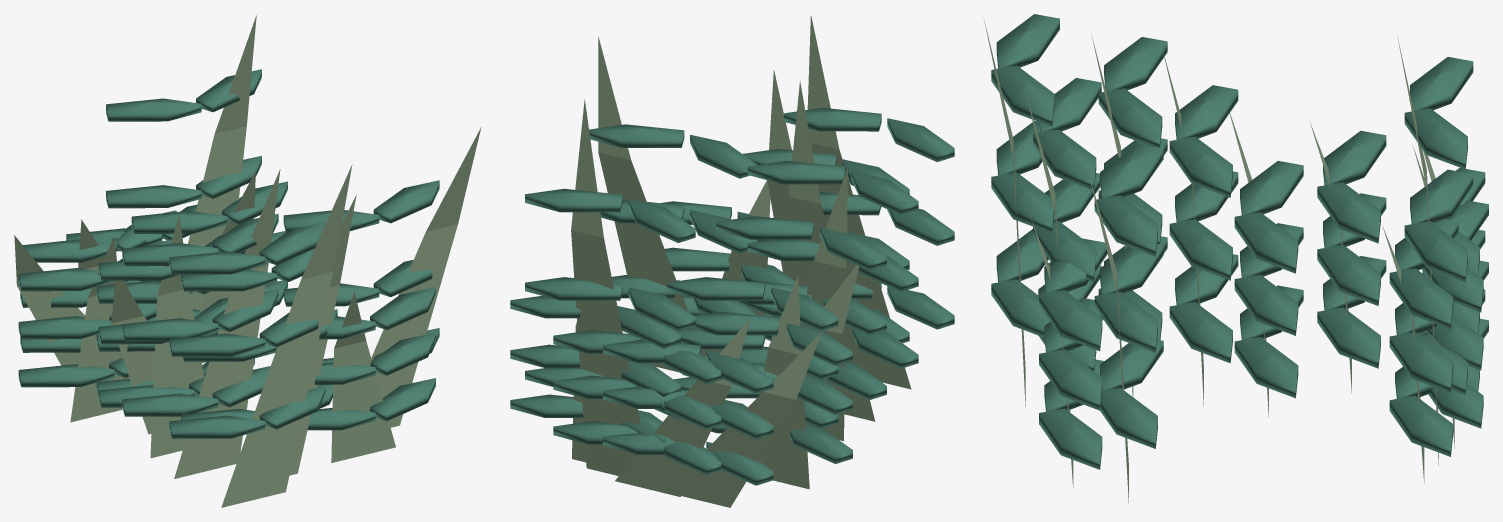
File: fern_variant_01.glb
3 views of the same model, side by side, from view 1: azimuth 30°, elevation 25°; view 2: azimuth 150°, elevation 25°; view 3: azimuth 270°, elevation 25° (orthographic). The views are drawn at different scales.
Parts seen in each view (by area): view 1: static_leaf_pine, static_leaf_sage; view 2: static_leaf_pine, static_leaf_sage; view 3: static_leaf_pine, static_leaf_sage.
Boxes of the visible parts, left/top/right/bottom form: static_leaf_pine: left=18, top=69, right=439, bottom=438; static_leaf_sage: left=14, top=15, right=481, bottom=507; static_leaf_pine: left=510, top=108, right=954, bottom=485; static_leaf_sage: left=571, top=15, right=911, bottom=507; static_leaf_pine: left=991, top=14, right=1488, bottom=469; static_leaf_sage: left=983, top=18, right=1454, bottom=503.
Size of the model in its own units: 0.8773 by 0.818 by 0.8315.
